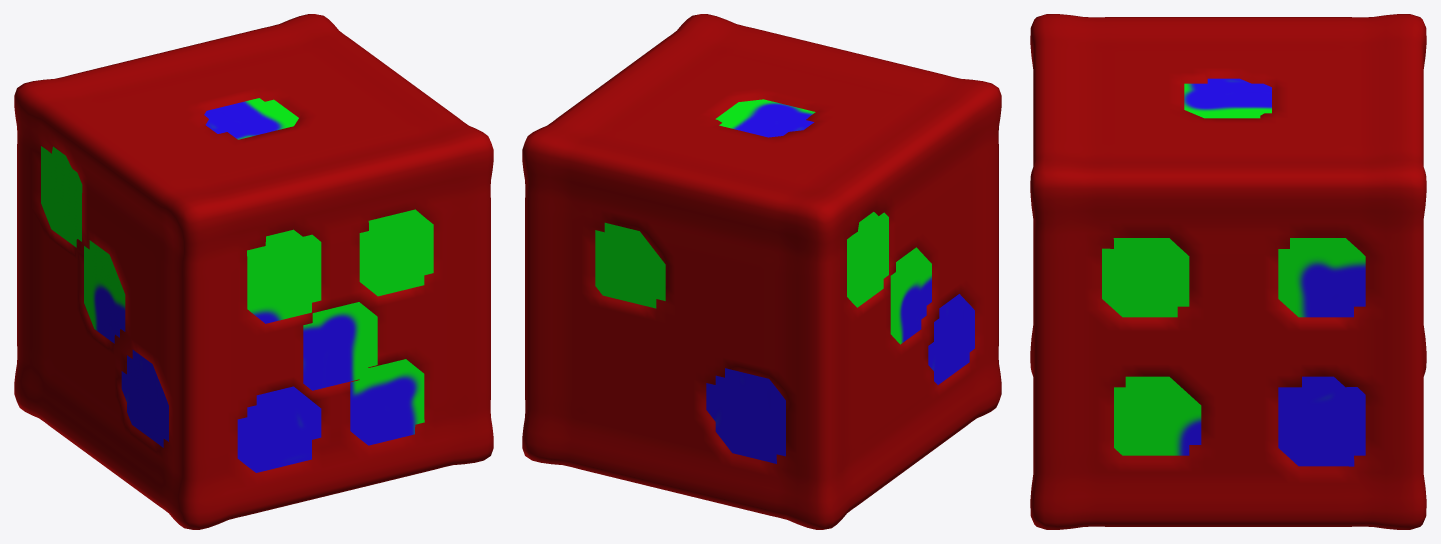
The model's file is redcube.obj.
3 renders of one model, left to right at view 1: azimuth 30°, elevation 25°; view 2: azimuth 150°, elevation 25°; view 3: azimuth 270°, elevation 25°, orthographic. The views are drawn at different scales.
Visible parts, largest first — view 1: HazeciKostkaLava_Plane.009; view 2: HazeciKostkaLava_Plane.009; view 3: HazeciKostkaLava_Plane.009.
Boxes of the visible parts, x1,y1,x2,y2 form: HazeciKostkaLava_Plane.009: [14, 14, 493, 529]; HazeciKostkaLava_Plane.009: [522, 14, 1001, 529]; HazeciKostkaLava_Plane.009: [1030, 14, 1426, 529].
Bounding box in the file's own units: 1.08 × 1.08 × 1.08.
Materials: 2 (1 with a texture image).
